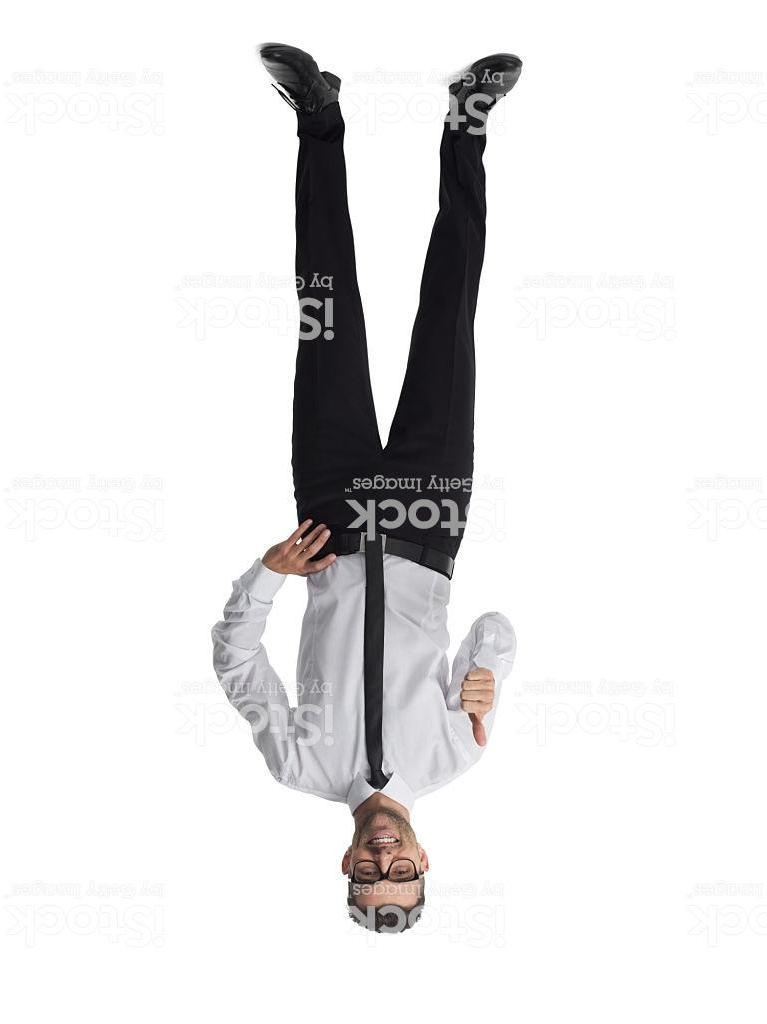thumbsdown: (460, 667, 497, 747)
